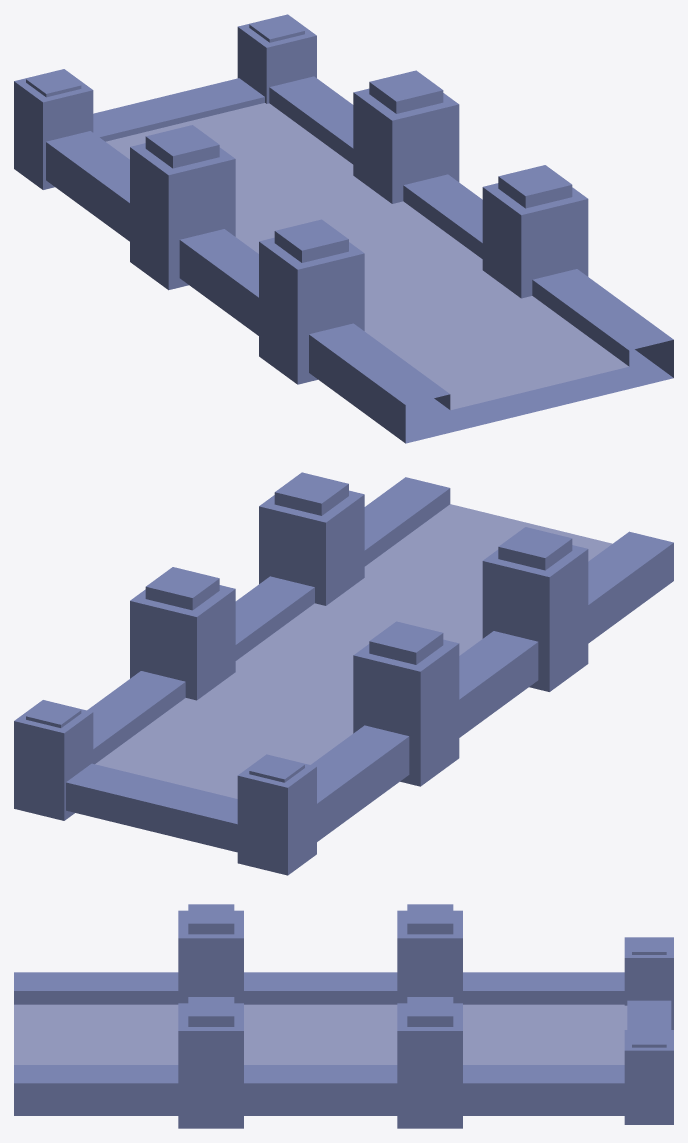
Rendered from bridge_1a_2.fbx.
The picture shows the model from 3 angles, top to bottom: view 1: azimuth 30°, elevation 25°; view 2: azimuth 150°, elevation 25°; view 3: azimuth 270°, elevation 25°; orthographic projection. The views are drawn at different scales.
Visible parts, largest first — view 1: bridge_1a_2; view 2: bridge_1a_2; view 3: bridge_1a_2.
Part boxes in pixels (x1=…): bridge_1a_2: x1=14, y1=14, x2=673, y2=443; bridge_1a_2: x1=14, y1=472, x2=673, y2=875; bridge_1a_2: x1=14, y1=904, x2=673, y2=1128.
Bounding box in the file's own units: 10.4 × 4.35 × 24.1.
